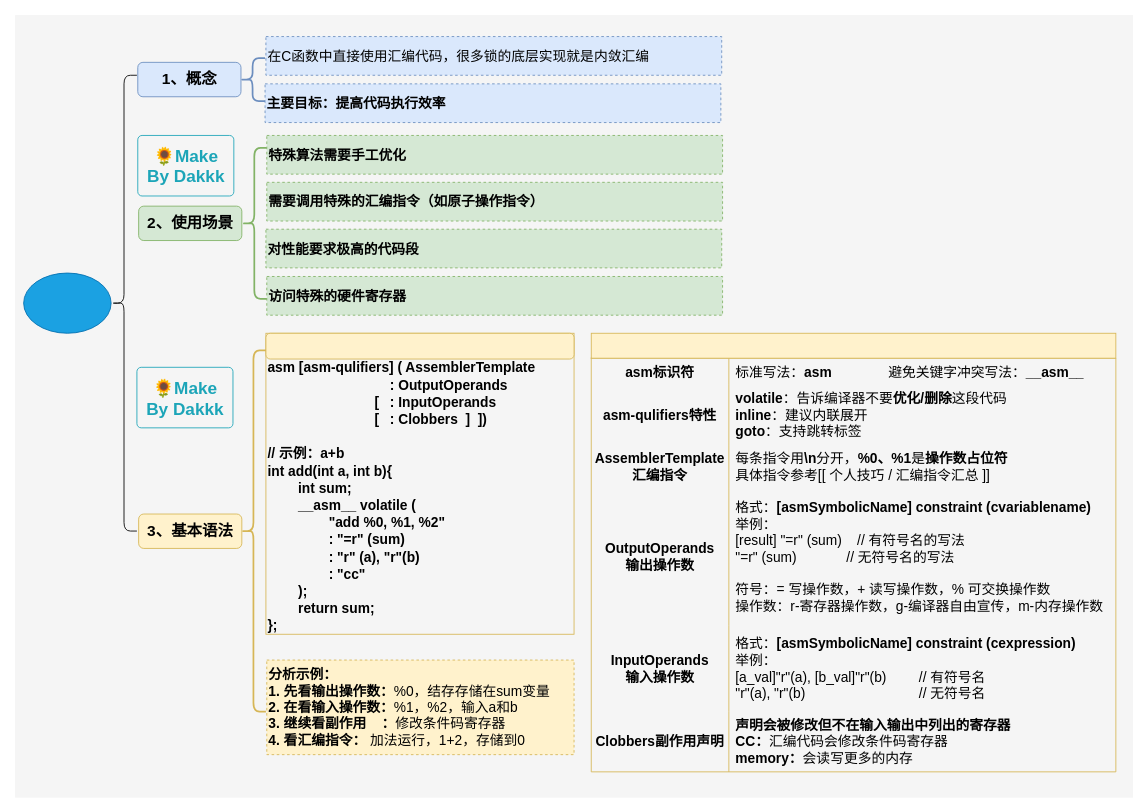
Image size: 1147x812. Some labels were removed from this diagram. Here are the shapes that lost their labels. From the top down, the centre of each, then its label:
the point at 67,302: 内联汇编
the point at 419,345: 内联汇编基本语法
the point at 853,345: 基本语法解释
